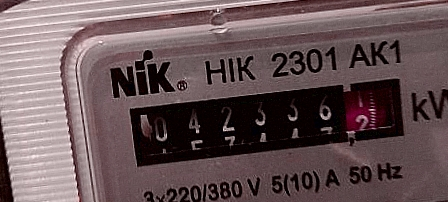0: (150, 113, 169, 143)
1: (351, 86, 365, 109)
2: (217, 102, 236, 132), (352, 111, 370, 131)
3: (280, 92, 300, 123), (249, 97, 267, 127)
4: (183, 104, 203, 135)
6: (314, 90, 335, 122)
screen: (116, 63, 419, 176)
